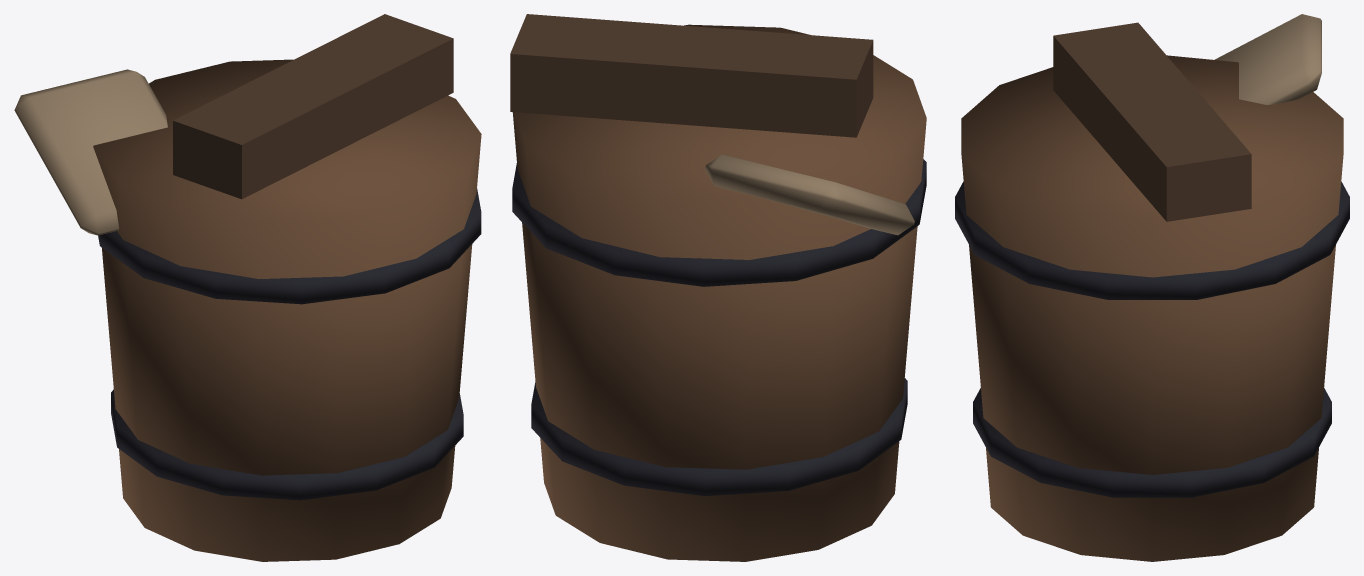
The model's file is bucket_brush.glb.
3 views of the same model, side by side, from view 1: azimuth 30°, elevation 25°; view 2: azimuth 150°, elevation 25°; view 3: azimuth 270°, elevation 25° (orthographic). The views are drawn at different scales.
Parts seen in each view (by area): view 1: bucket_brush; view 2: bucket_brush; view 3: bucket_brush.
Part boxes in pixels (x1,y1,x2,y2): bucket_brush: (14,14,481,561); bucket_brush: (510,14,926,561); bucket_brush: (955,14,1349,561).
Size of the model in its own units: 0.2836 by 0.3 by 0.262.
